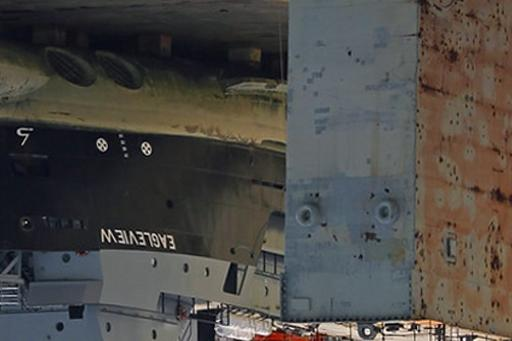rust: (421, 1, 511, 334)
